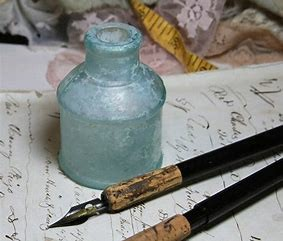pen: (56, 127, 283, 225), (140, 170, 283, 239)
